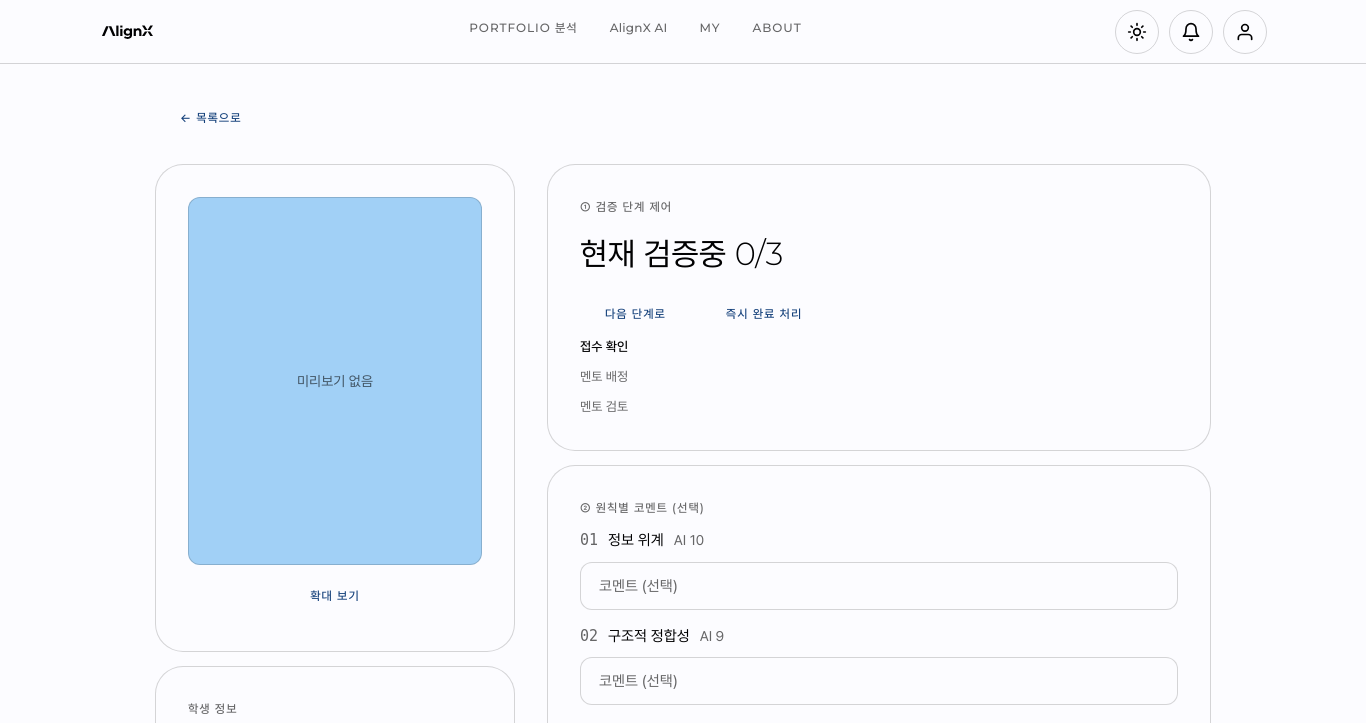
Scenario: AdminFeedbackPage — 검증 단계 수동 제어 (10 §3.3) › "즉시 완료 처리"를 누르면 3단계가 한 번에 끝난다
expect the button "← 목록으로" is shown: met, box [155,96,266,140]
Click the button "즉시 완료 처리" at (764, 314), box [701,292,827,336]
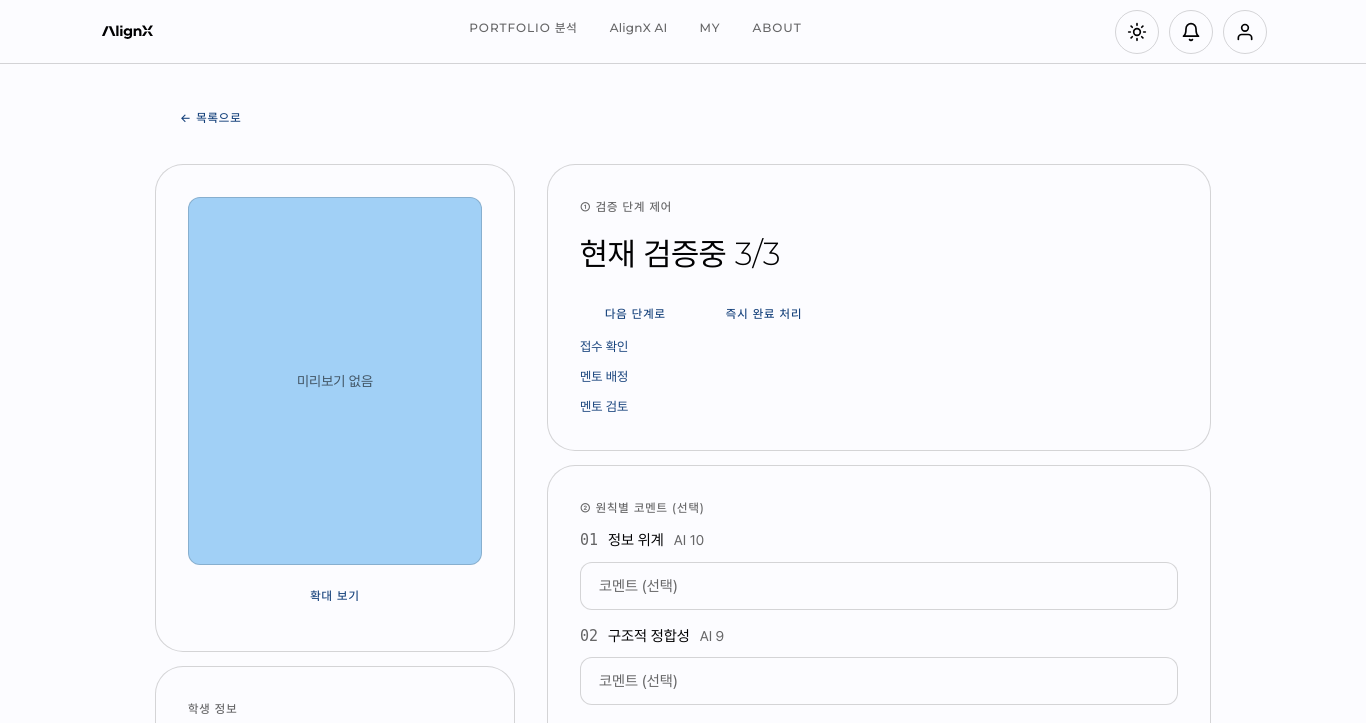
expect the text "현재 검증중 3/3" is shown: met, box [580,234,781,273]
